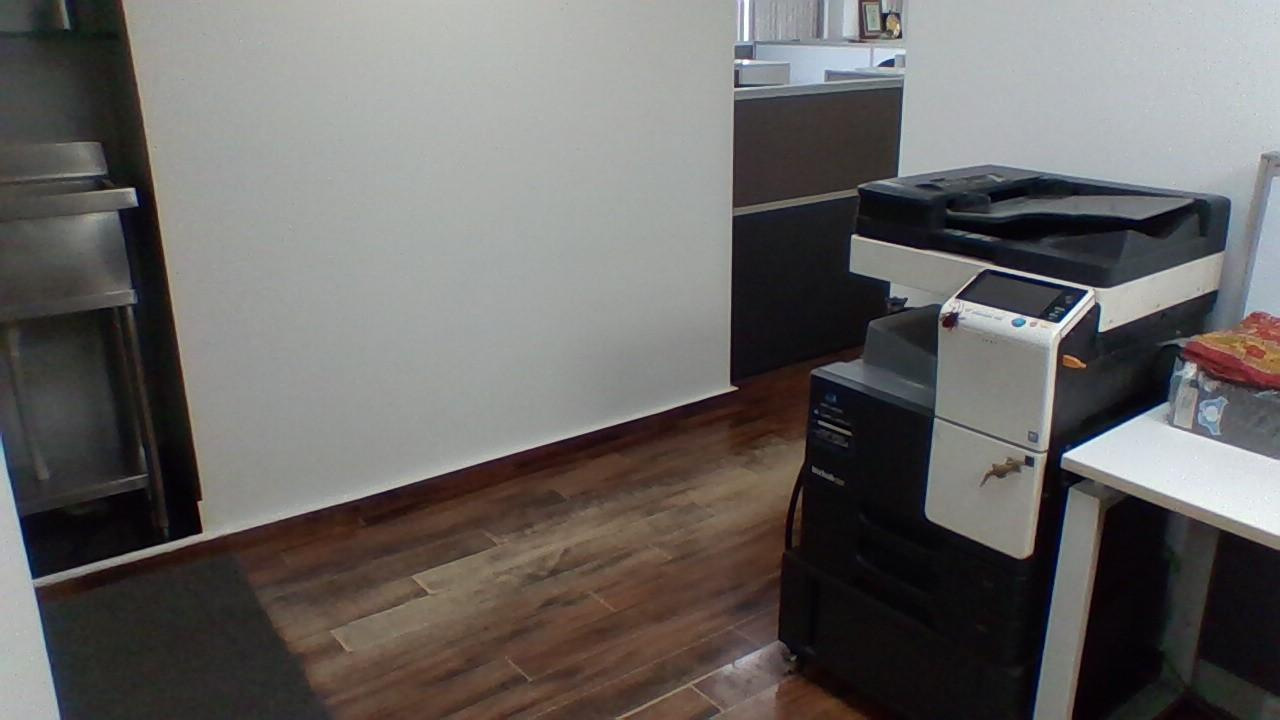cockroach: (935, 300, 968, 337)
lizard: (969, 446, 1027, 495)
